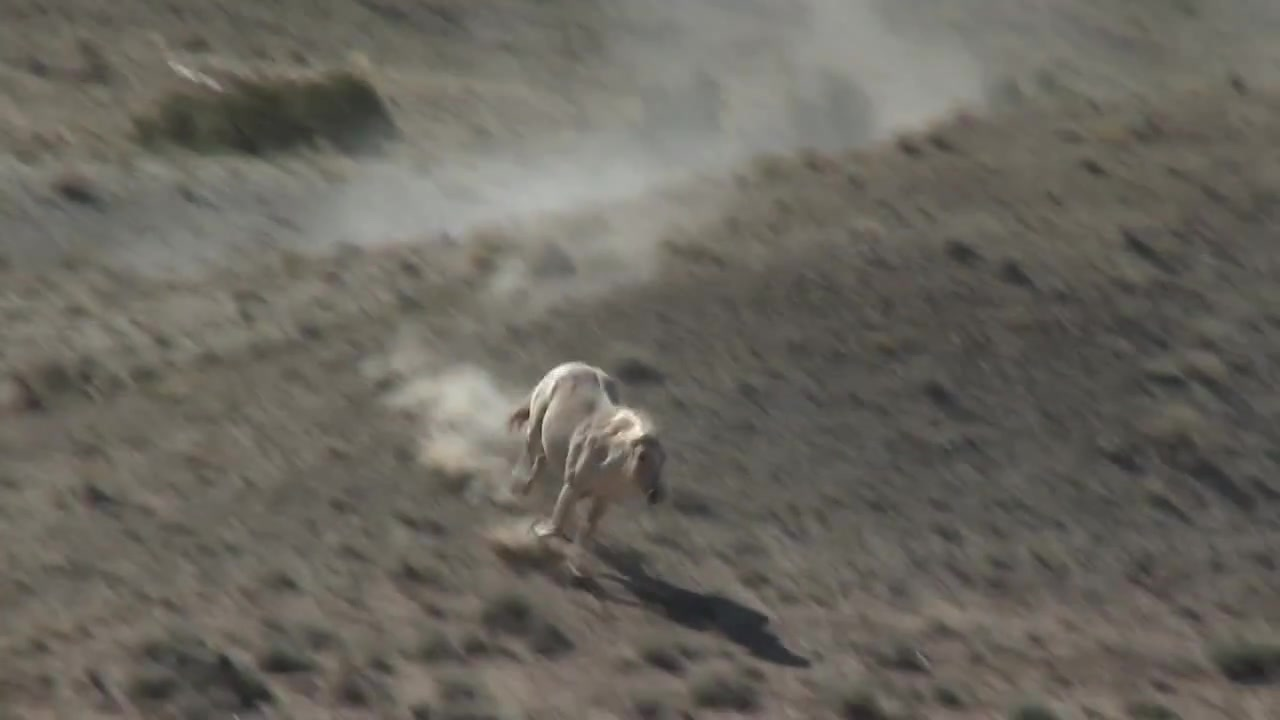horse: (508, 358, 675, 560)
